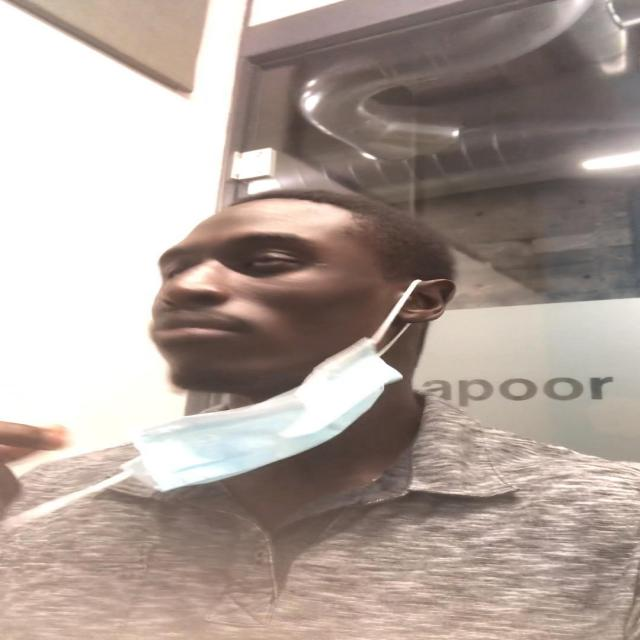face: (144, 212, 423, 394)
